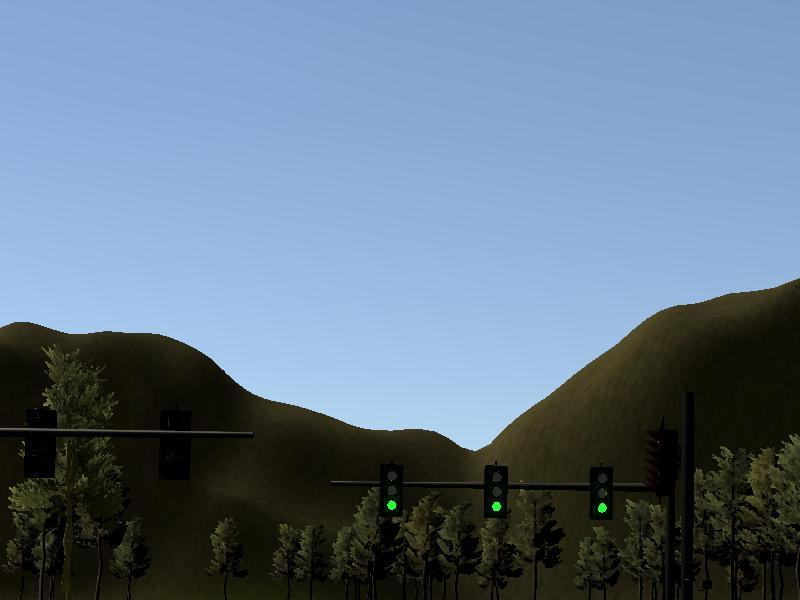Green: (377, 460, 402, 520), (589, 464, 611, 521), (485, 464, 507, 519)
